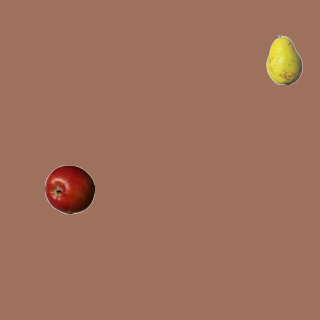Apple Braeburn: (44, 164, 94, 214)
Pear Monster: (259, 34, 309, 84)
